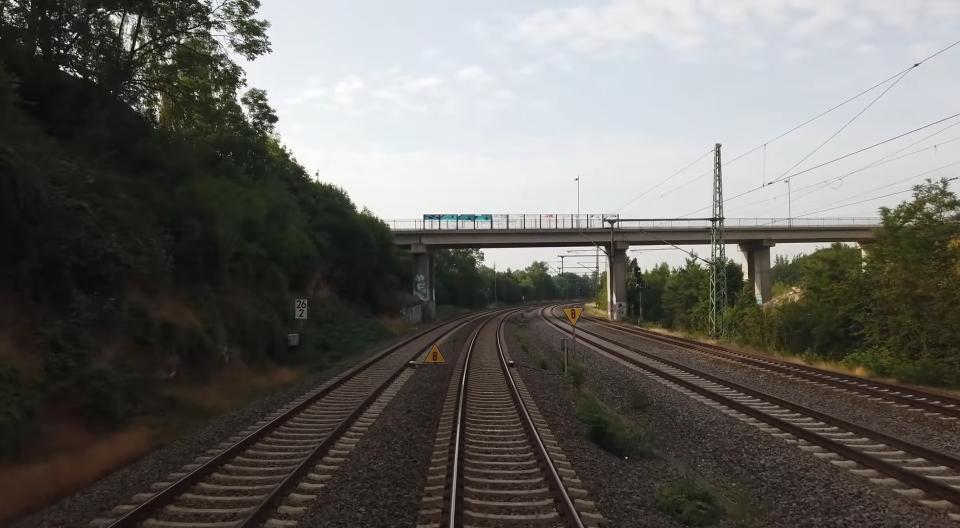Plant: (575, 387, 652, 458), (657, 480, 726, 528), (568, 360, 585, 388), (630, 387, 650, 409), (540, 357, 548, 370)
